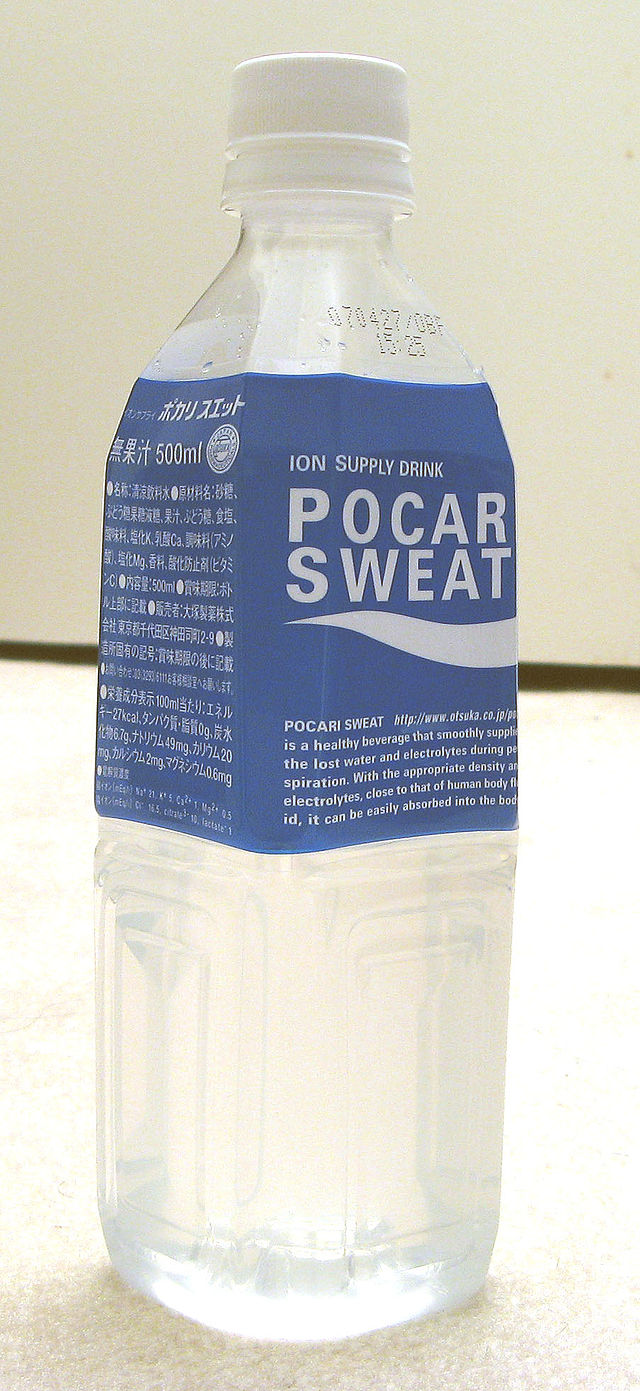POCARI SWEAT: (90, 55, 493, 1337)
